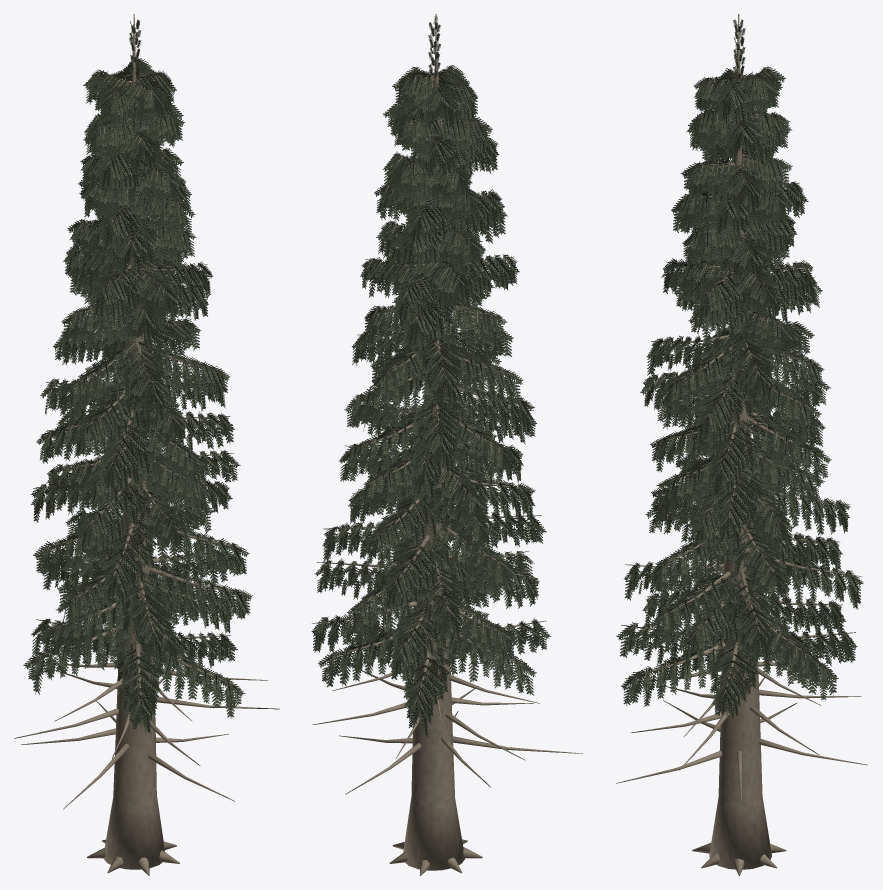
Rendered from Sitka_Mature_01_Unpruned_LOD0.fbx.
3 views of the same model, side by side, from view 1: azimuth 30°, elevation 25°; view 2: azimuth 150°, elevation 25°; view 3: azimuth 270°, elevation 25° (orthographic).
Visible parts, largest first — view 1: Sitka_Mature_01_Unpruned_LOD0; view 2: Sitka_Mature_01_Unpruned_LOD0; view 3: Sitka_Mature_01_Unpruned_LOD0.
Boxes of the visible parts, x1,y1,x2,y2 form: Sitka_Mature_01_Unpruned_LOD0: (14,14,279,875); Sitka_Mature_01_Unpruned_LOD0: (311,14,582,875); Sitka_Mature_01_Unpruned_LOD0: (616,14,867,875).
Size of the model in its own units: 781 by 2801 by 775.
Materials: 2 (2 with a texture image).
